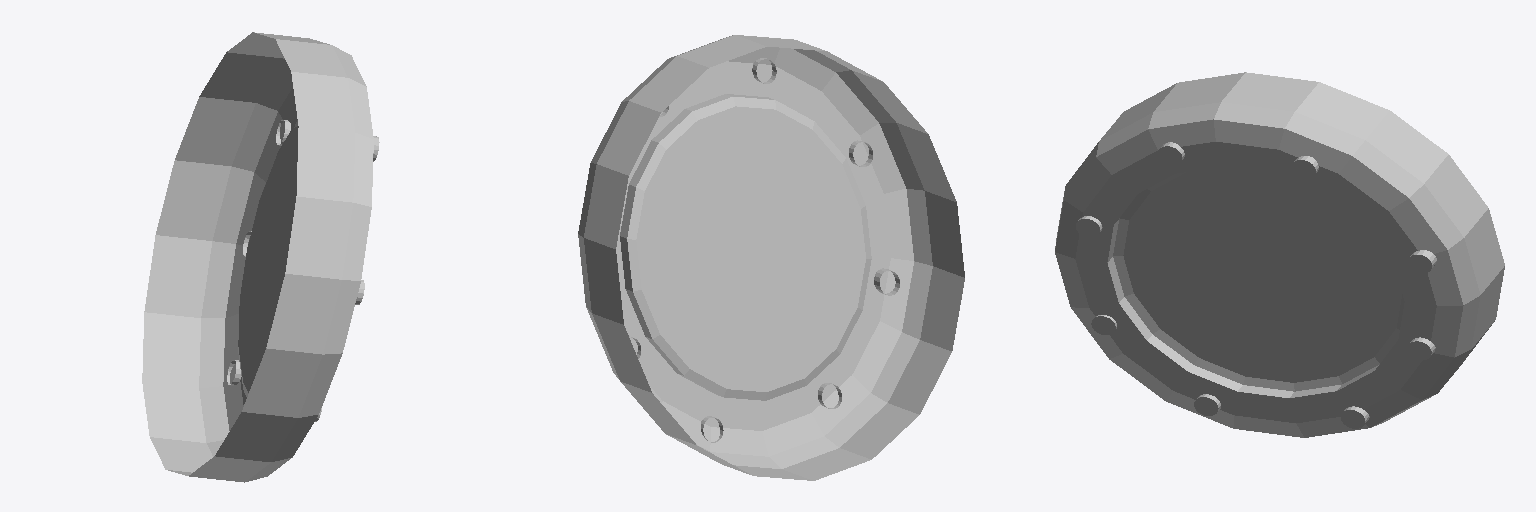
Rendered from ventanaCuarto.obj.
3 views of the same model, side by side, from view 1: azimuth 30°, elevation 25°; view 2: azimuth 150°, elevation 25°; view 3: azimuth 270°, elevation 25° (orthographic).
Visible parts, largest first — view 1: pasted__group2_pasted__Window_pasted__polySurface2 group9; view 2: pasted__group2_pasted__Window_pasted__polySurface2 group9; view 3: pasted__group2_pasted__Window_pasted__polySurface2 group9.
Part boxes in pixels (bbox=[...]): pasted__group2_pasted__Window_pasted__polySurface2 group9: bbox=[142, 32, 379, 482]; pasted__group2_pasted__Window_pasted__polySurface2 group9: bbox=[578, 35, 964, 480]; pasted__group2_pasted__Window_pasted__polySurface2 group9: bbox=[1055, 72, 1504, 437].
Size of the model in its own units: 2.35 by 3.83 by 4.05.